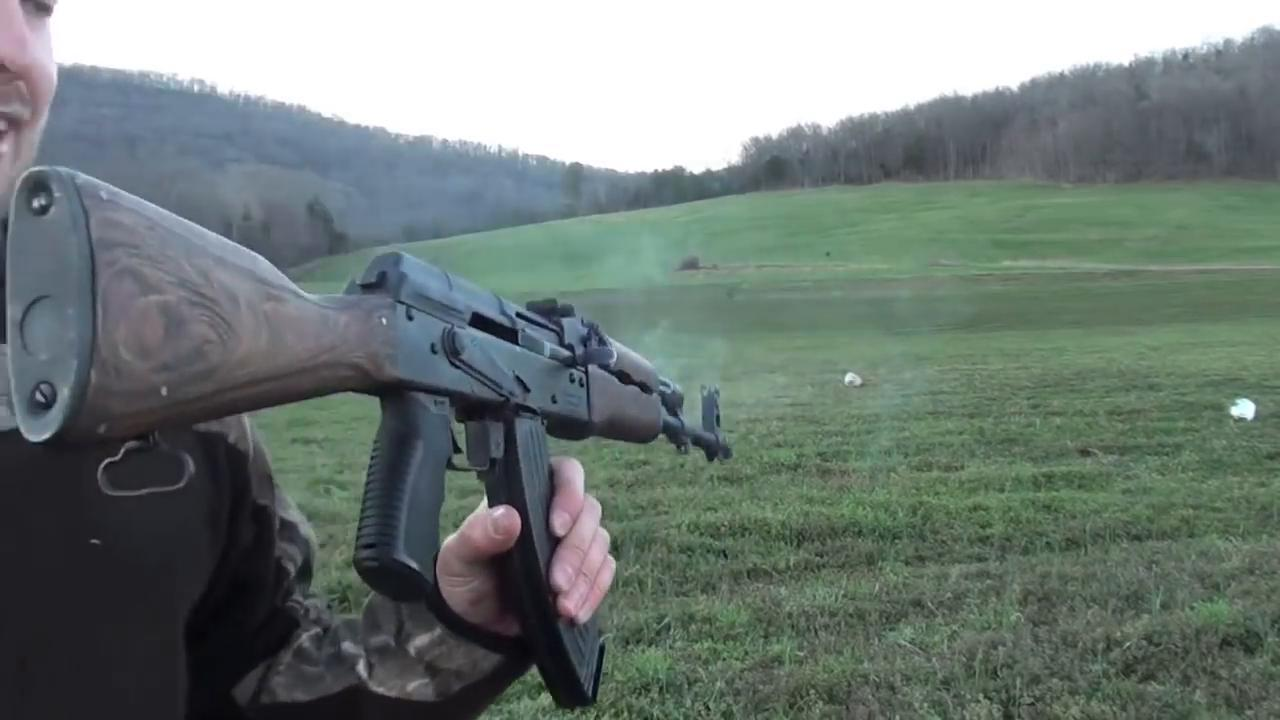AK47 Rifle: (5, 165, 740, 711)
